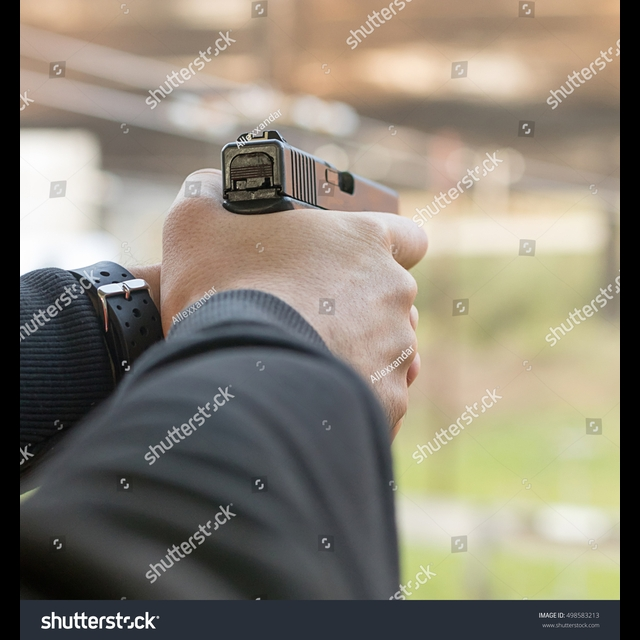SILAH: (210, 125, 431, 293)
